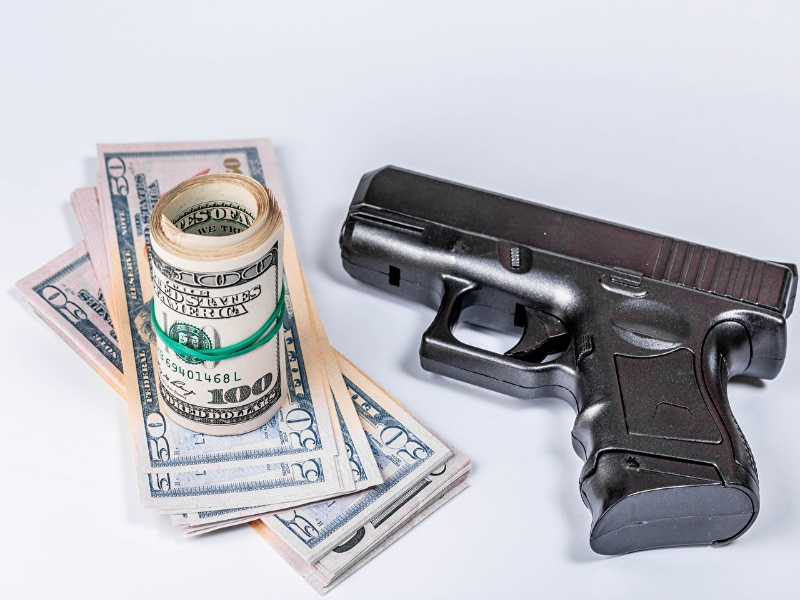cash: (6, 137, 472, 594)
weapon: (338, 165, 798, 556)
